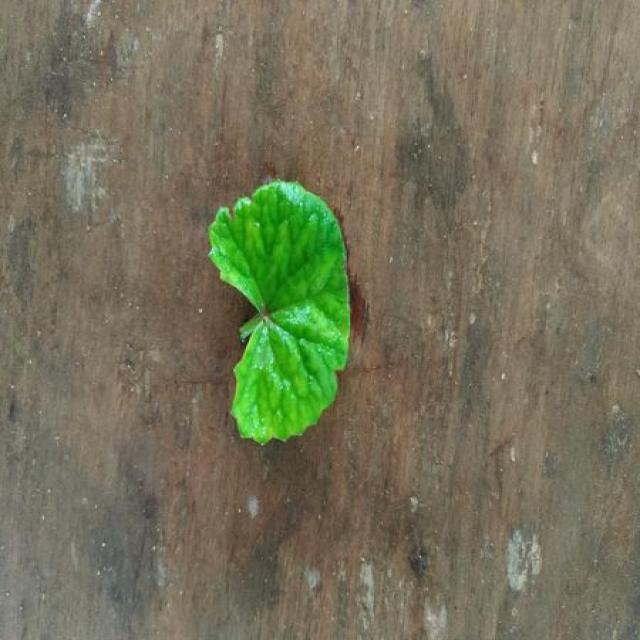bhrami: (208, 180, 350, 443)
